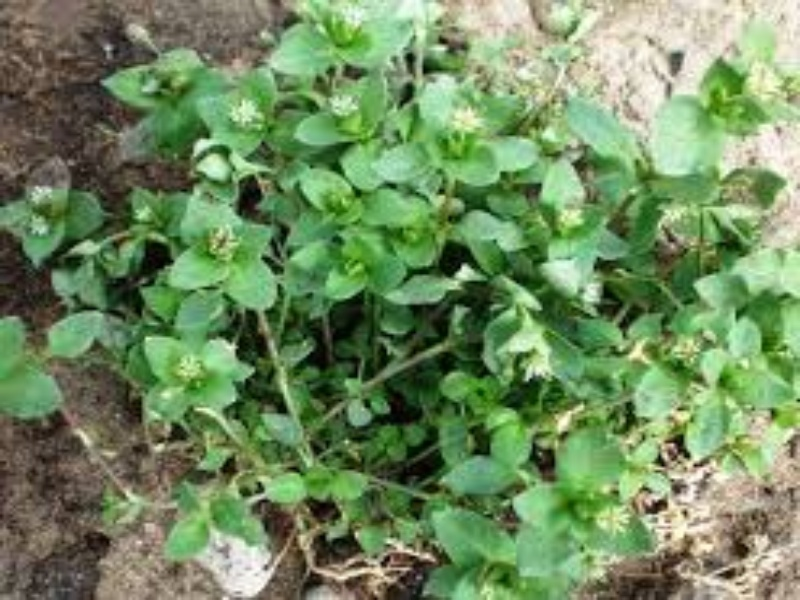weed: (217, 274, 508, 532), (523, 427, 638, 565), (172, 194, 283, 310), (690, 274, 790, 387), (503, 172, 612, 275), (2, 154, 102, 263), (109, 53, 205, 146), (298, 83, 383, 147)
